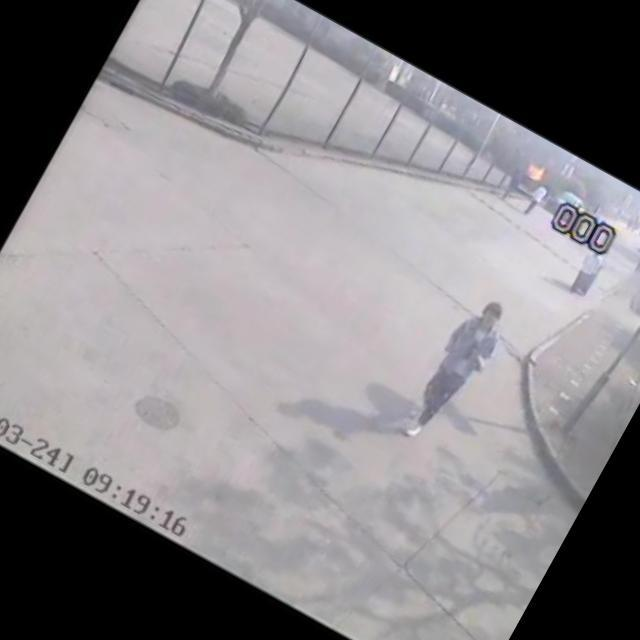person: (383, 265, 529, 462), (554, 226, 628, 304), (519, 176, 558, 220), (494, 156, 530, 200)
